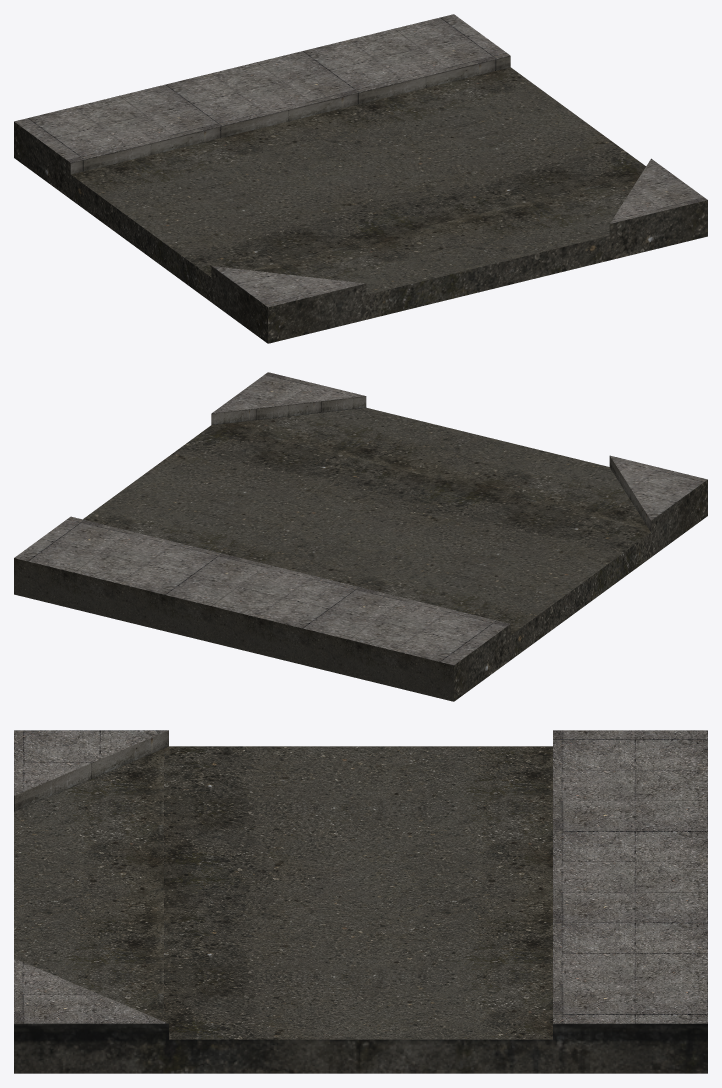
Rendered from 3WayRoad.fbx.
The picture shows the model from 3 angles, top to bottom: view 1: azimuth 30°, elevation 25°; view 2: azimuth 150°, elevation 25°; view 3: azimuth 270°, elevation 25°; orthographic projection. The views are drawn at different scales.
Parts seen in each view (by area): view 1: 2WayRoad; view 2: 2WayRoad; view 3: 2WayRoad.
Boxes of the visible parts, <box> form: 2WayRoad: <box>14,14,707,343</box>; 2WayRoad: <box>14,372,707,701</box>; 2WayRoad: <box>14,730,707,1073</box>.
Bounding box in the file's own units: 4.75 × 0.3759 × 4.75.
2 materials, 2 textured.
